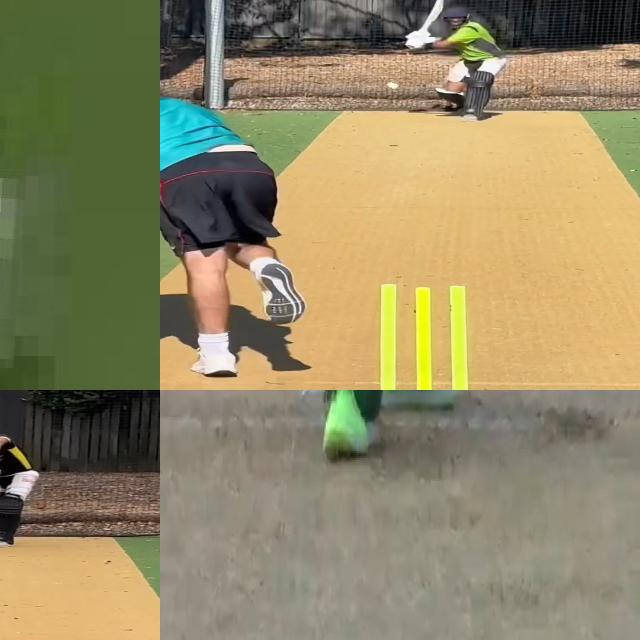Cricket ball: (297, 390, 328, 403), (385, 80, 401, 91)
Stumps: (361, 279, 486, 390)
